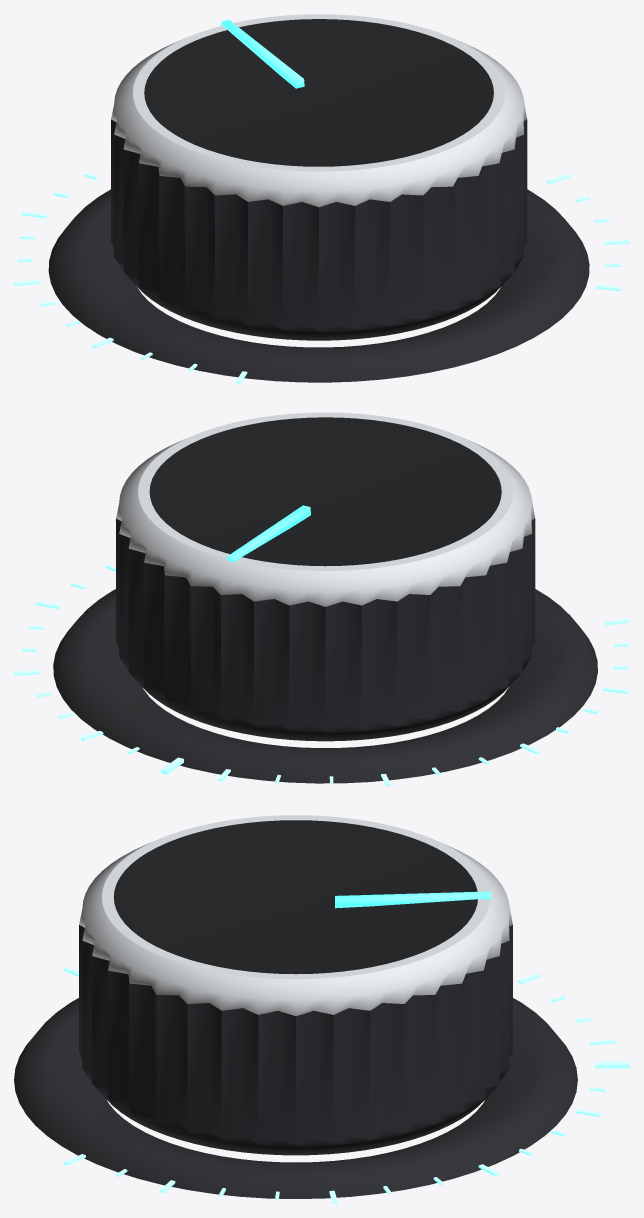
Rendered from knob.glb.
The picture shows the model from 3 angles, top to bottom: view 1: azimuth 30°, elevation 25°; view 2: azimuth 150°, elevation 25°; view 3: azimuth 270°, elevation 25°; orthographic projection. The views are drawn at different scales.
Parts seen in each view (by area): view 1: Knob_Rotor, Knob_Base, Knob_Ticks, Knob_Indicator; view 2: Knob_Rotor, Knob_Base, Knob_Ticks, Knob_Indicator; view 3: Knob_Rotor, Knob_Base, Knob_Ticks, Knob_Indicator.
Part boxes in pixels (<box>): Knob_Rotor: <box>111,14,527,340</box>; Knob_Base: <box>48,189,589,382</box>; Knob_Ticks: <box>14,173,629,383</box>; Knob_Indicator: <box>221,20,304,88</box>; Knob_Rotor: <box>116,412,535,741</box>; Knob_Base: <box>53,589,597,783</box>; Knob_Ticks: <box>14,564,629,786</box>; Knob_Indicator: <box>227,505,310,562</box>; Knob_Rotor: <box>79,815,512,1155</box>; Knob_Base: <box>14,998,577,1198</box>; Knob_Ticks: <box>64,967,629,1203</box>; Knob_Indicator: <box>335,891,491,908</box>.
Size of the model in its own units: 2.95 by 0.95 by 2.84.
